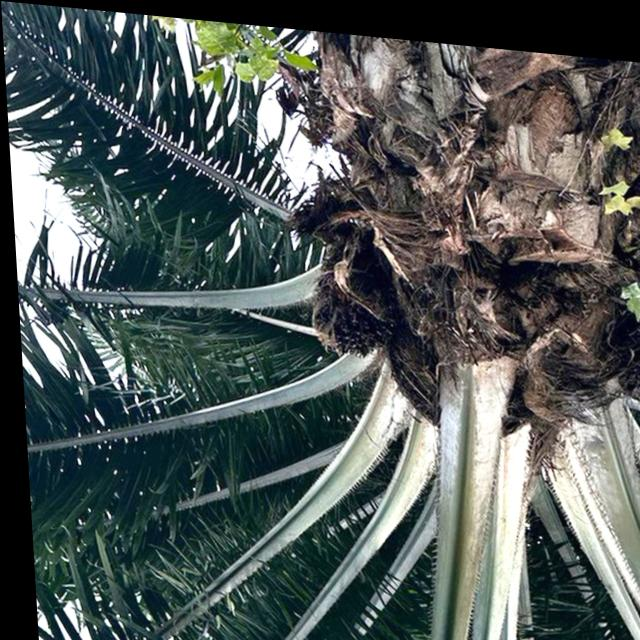almost: (294, 256, 395, 365)
